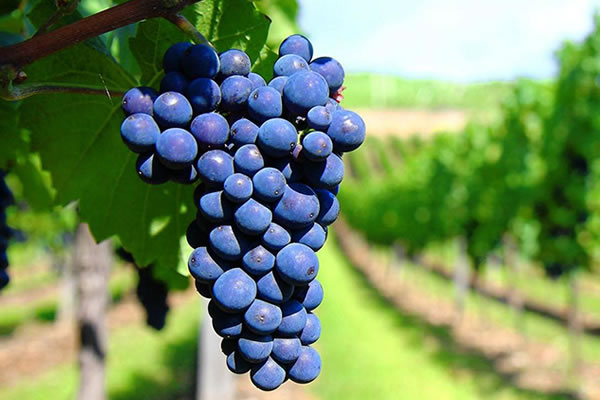Black grapes: (118, 33, 359, 383)
